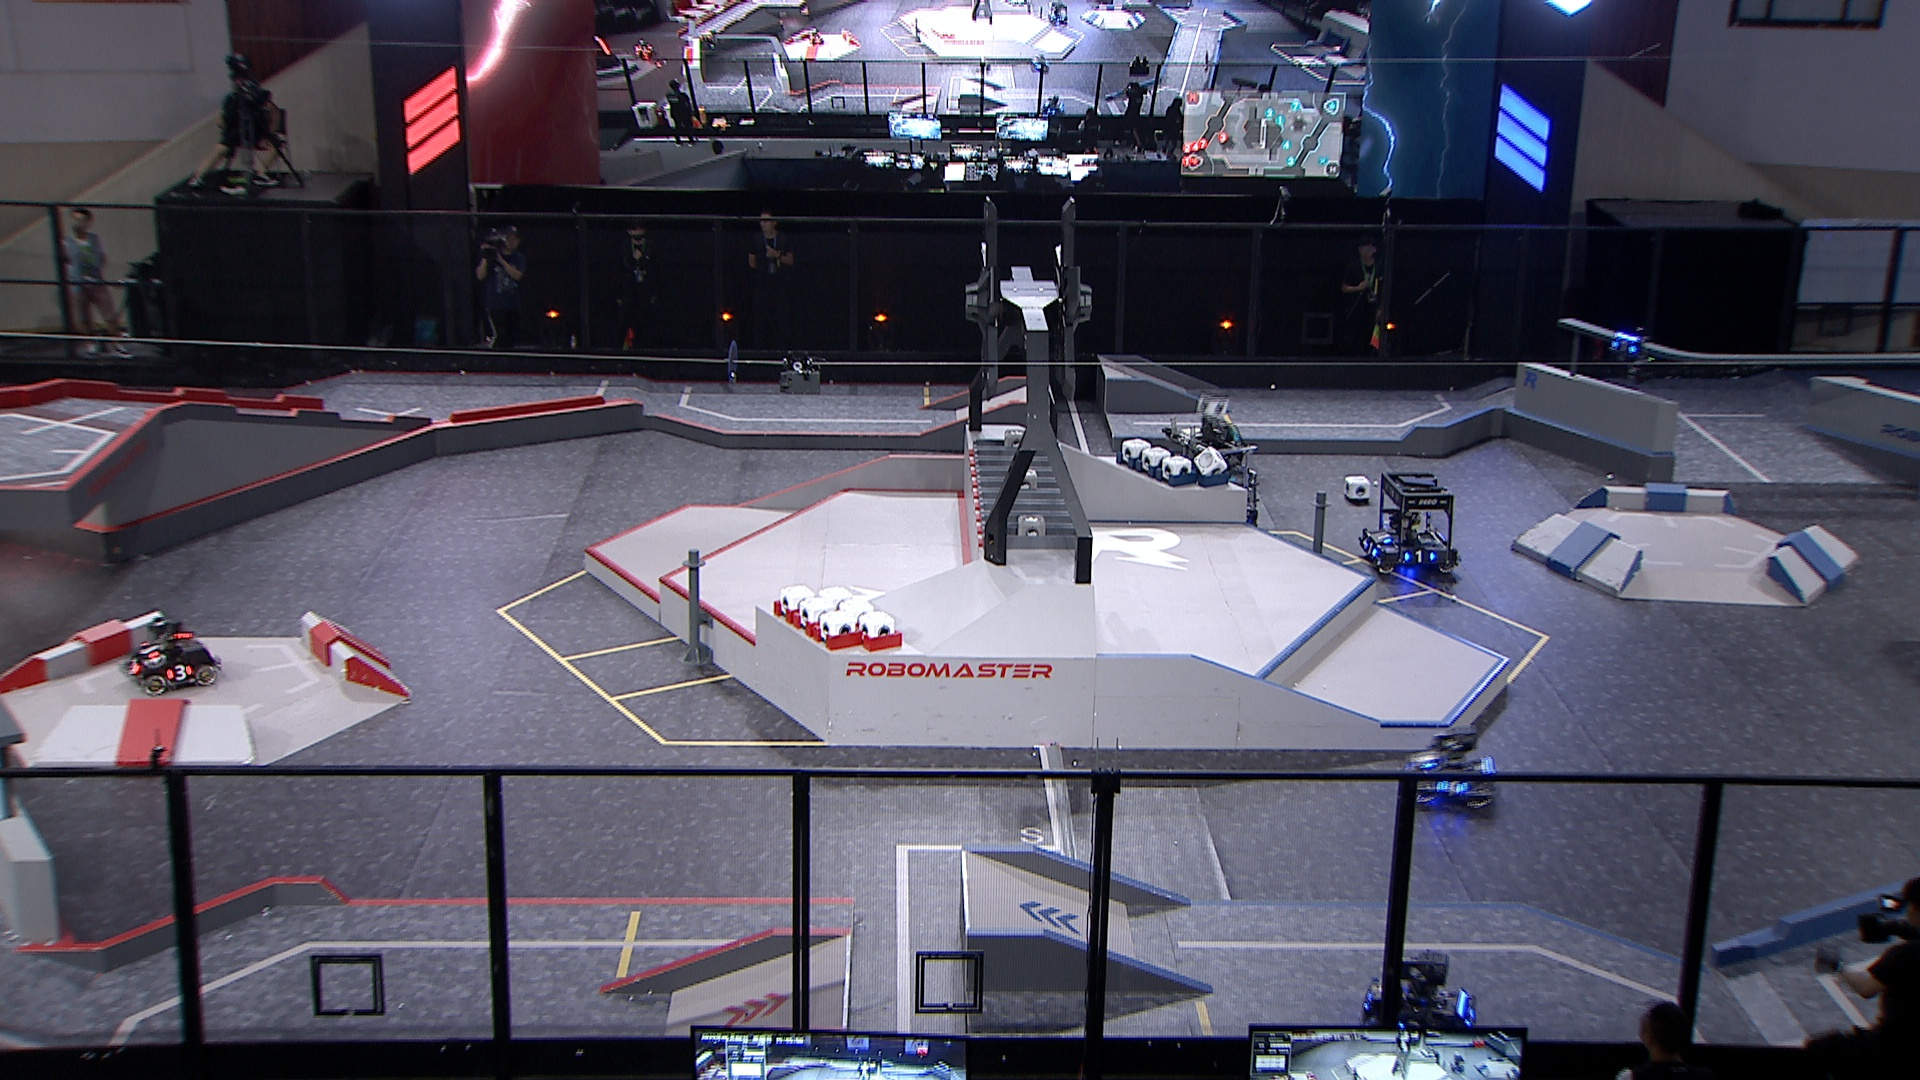armor: (1433, 778, 1472, 796), (164, 665, 195, 683), (1400, 550, 1437, 564), (1411, 752, 1439, 769), (1609, 338, 1638, 353), (138, 640, 162, 657), (1364, 541, 1379, 560), (125, 654, 140, 675), (1375, 529, 1394, 545)
car: (1358, 951, 1476, 1054), (1356, 471, 1462, 575), (1160, 427, 1261, 535), (116, 618, 222, 698), (1400, 727, 1498, 811)
ignore: (589, 30, 622, 69), (1040, 92, 1067, 115), (1048, 0, 1069, 25), (698, 29, 717, 53), (633, 40, 654, 61), (1027, 53, 1048, 74), (807, 25, 825, 47)
watcher: (1607, 324, 1655, 384)
